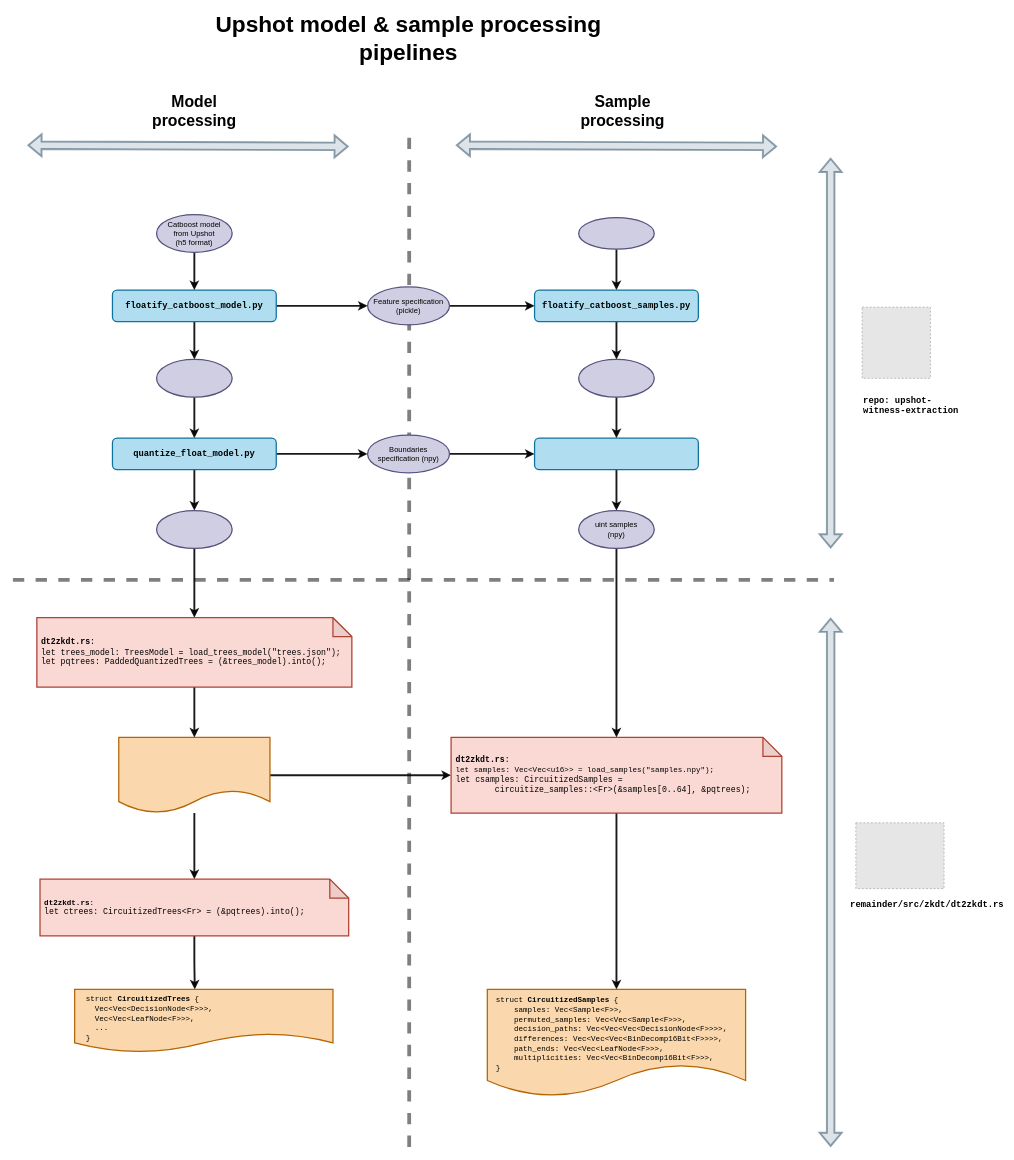
Some shapes in this 1014 by 1160 pixel diagram are drawn without their labels. Grey dashed boxes stand in for pictures. The shapes that lost their labels are listed below. From the top down, each one's centre as x and y in pixels, then its label:
At (x=616, y=233): "Samples from Upshot (parquet)".
At (x=194, y=378): "float-threshold trees (JSON)".
At (x=616, y=378): "float samples (npy)".
At (x=616, y=453): "quantize_float_samples.py".
At (x=194, y=529): "uint-threshold trees (JSON)".
At (x=194, y=774): "struct PaddedQuantizedTrees { trees: Vec<Node<i32>>, ... }".
